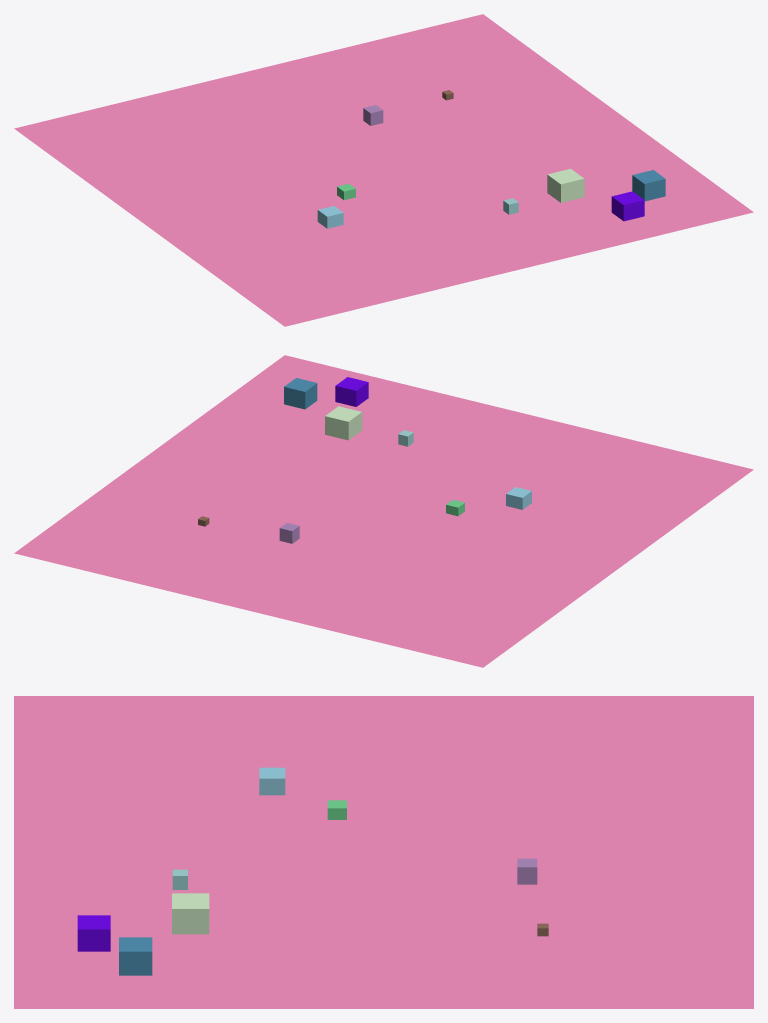
The picture shows the model from 3 angles, top to bottom: view 1: azimuth 30°, elevation 25°; view 2: azimuth 150°, elevation 25°; view 3: azimuth 270°, elevation 25°; orthographic projection. The views are drawn at different scales.
Parts seen in each view (by area): view 1: Chunk_0_2; view 2: Chunk_0_2; view 3: Chunk_0_2.
Boxes of the visible parts, left/top/right/bottom form: Chunk_0_2: left=14, top=14, right=753, bottom=326; Chunk_0_2: left=14, top=355, right=753, bottom=667; Chunk_0_2: left=14, top=696, right=753, bottom=1008.
Size of the model in its own units: 1500 by 75.47 by 1500.
